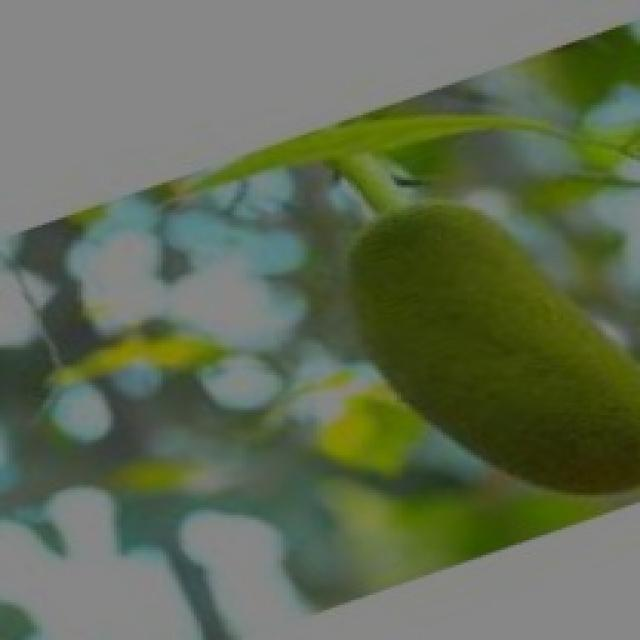Fruit: (295, 163, 640, 535)
